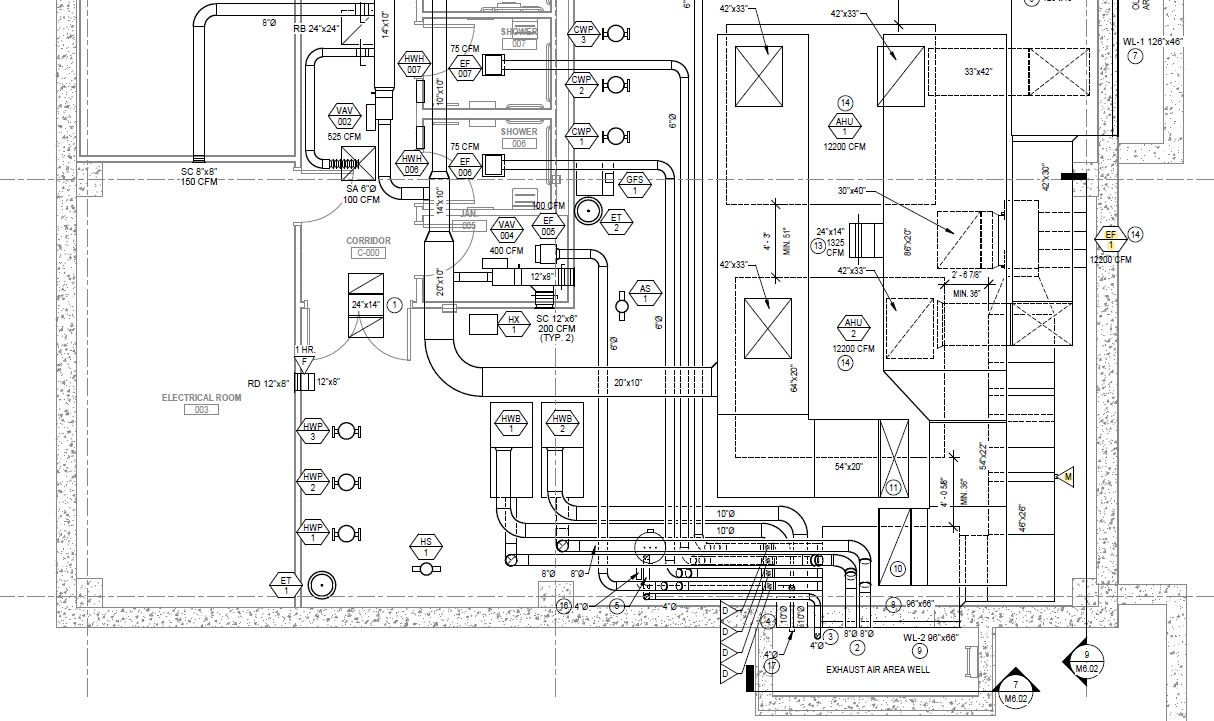VAV Box: (360, 87, 402, 138), (475, 255, 527, 294)
